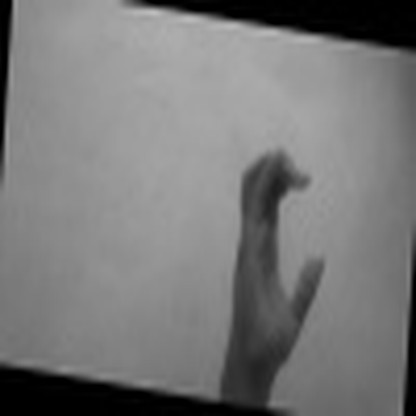c: (227, 132, 330, 358)
